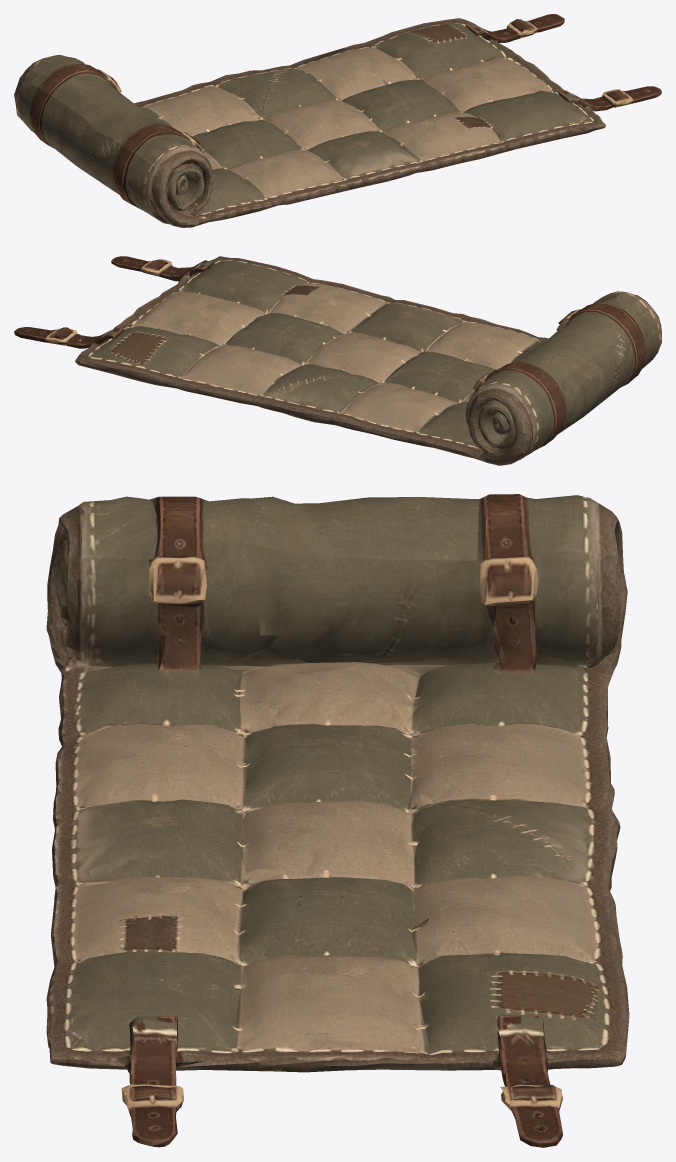
File: bedroll.glb
3 views of the same model, one above another, from view 1: azimuth 30°, elevation 25°; view 2: azimuth 150°, elevation 25°; view 3: azimuth 270°, elevation 25° (orthographic). The views are drawn at different scales.
Parts seen in each view (by area): view 1: Mesh0; view 2: Mesh0; view 3: Mesh0.
Part boxes in pixels (x1,y1,x2,y2): Mesh0: [14, 14, 661, 227]; Mesh0: [14, 256, 661, 465]; Mesh0: [46, 494, 629, 1147].
Bounding box in the file's own units: 1.9 × 0.2732 × 0.894.
Materials: 1 (1 with a texture image).
